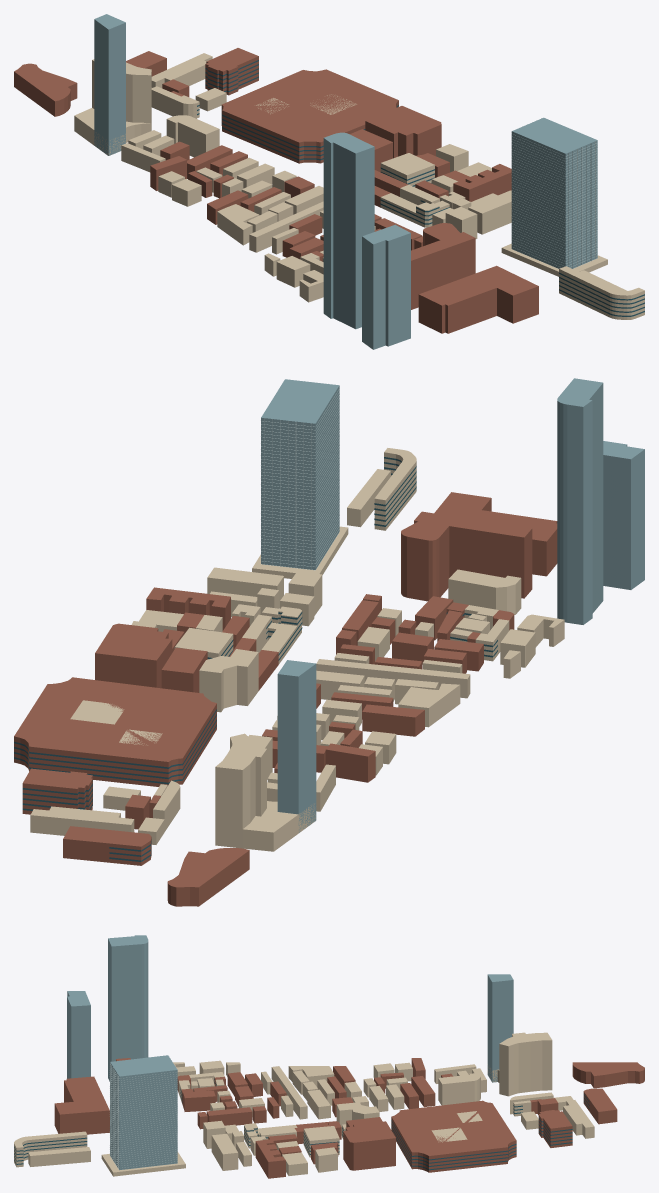
3 renders of one model, top to bottom at view 1: azimuth 30°, elevation 25°; view 2: azimuth 150°, elevation 25°; view 3: azimuth 270°, elevation 25°, orthographic. The views are drawn at different scales.
Parts seen in each view (by area): view 1: westin-bund.001, osm-relation-17625579, osm-way-369237982, osm-way-369237894, osm-way-380339892, osm-way-378107169, osm-relation-19420005, osm-relation-10556121, osm-way-325227694, osm-relation-19420005.001, osm-way-792384681, osm-way-292718778 (+24 smaller); view 2: osm-relation-17625579, westin-bund.001, osm-way-369237982, osm-way-378107169, osm-way-380339892, osm-way-369237894, osm-way-292718776, osm-relation-10556121, osm-way-792384681, osm-way-380340022, osm-way-292718778, osm-way-378107212 (+27 smaller); view 3: westin-bund.001, osm-relation-17625579, osm-way-369237982, osm-way-292718776, osm-relation-10556121, osm-way-380339892, osm-way-369237894, osm-relation-19420005.001, osm-way-792384681, osm-way-325227694, osm-way-378107231, osm-way-292718778 (+21 smaller).
Part boxes in pixels (x1,y1,x2,y2): westin-bund.001: (501,117,607,276); osm-relation-17625579: (221,69,398,163); osm-way-369237982: (323,132,374,329); osm-way-369237894: (362,224,410,349); osm-way-380339892: (94,14,125,155); osm-way-378107169: (411,223,475,309); osm-relation-19420005: (418,275,496,333); osm-relation-10556121: (365,106,441,158); osm-way-325227694: (559,266,644,319); osm-relation-19420005.001: (471,265,538,323); osm-way-792384681: (14,63,77,116); osm-way-292718778: (205,48,258,95); osm-relation-17625579: (14,677,216,786); westin-bund.001: (252,379,348,578); osm-way-369237982: (557,378,603,624); osm-way-378107169: (401,511,532,601); osm-way-380339892: (277,660,316,832); osm-way-369237894: (603,441,644,589); osm-way-292718776: (215,733,266,848); osm-relation-10556121: (95,623,172,688); osm-way-792384681: (167,848,249,906); osm-way-380340022: (199,649,258,712); osm-way-292718778: (22,768,92,814); osm-way-378107212: (448,569,521,614); westin-bund.001: (101,1055,185,1176); osm-relation-17625579: (391,1100,516,1172); osm-way-369237982: (108,935,148,1081); osm-way-292718776: (499,1032,552,1096); osm-relation-10556121: (343,1121,395,1170); osm-way-380339892: (487,974,513,1082); osm-way-369237894: (67,991,90,1078); osm-relation-19420005.001: (54,1099,109,1134); osm-way-792384681: (572,1062,644,1088); osm-way-325227694: (14,1131,87,1167); osm-way-378107231: (438,1073,480,1105); osm-way-292718778: (538,1110,572,1147).
Size of the model in its own units: 272 by 170 by 697.
